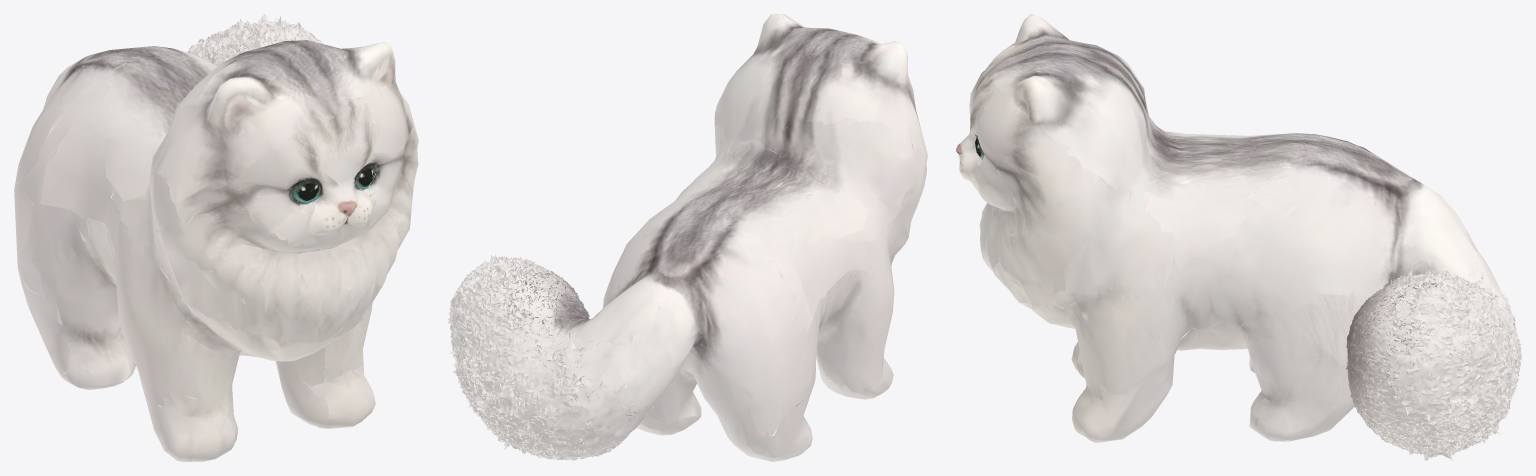
Rendered from meshy-chinchilla.glb.
3 views of the same model, side by side, from view 1: azimuth 30°, elevation 25°; view 2: azimuth 150°, elevation 25°; view 3: azimuth 270°, elevation 25° (orthographic). The views are drawn at different scales.
Visible parts, largest first — view 1: Mesh_0; view 2: Mesh_0; view 3: Mesh_0.
Part boxes in pixels (left/top/right/bottom): Mesh_0: left=14, top=14, right=418, bottom=461; Mesh_0: left=447, top=14, right=927, bottom=461; Mesh_0: left=956, top=14, right=1521, bottom=461.
Bounding box in the file's own units: 1.31 × 1.32 × 1.9.
1 material, 1 textured.
